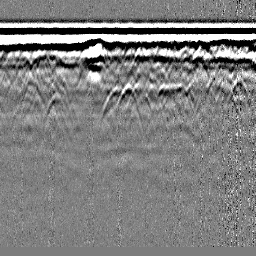cavity: (117, 81, 139, 116)
